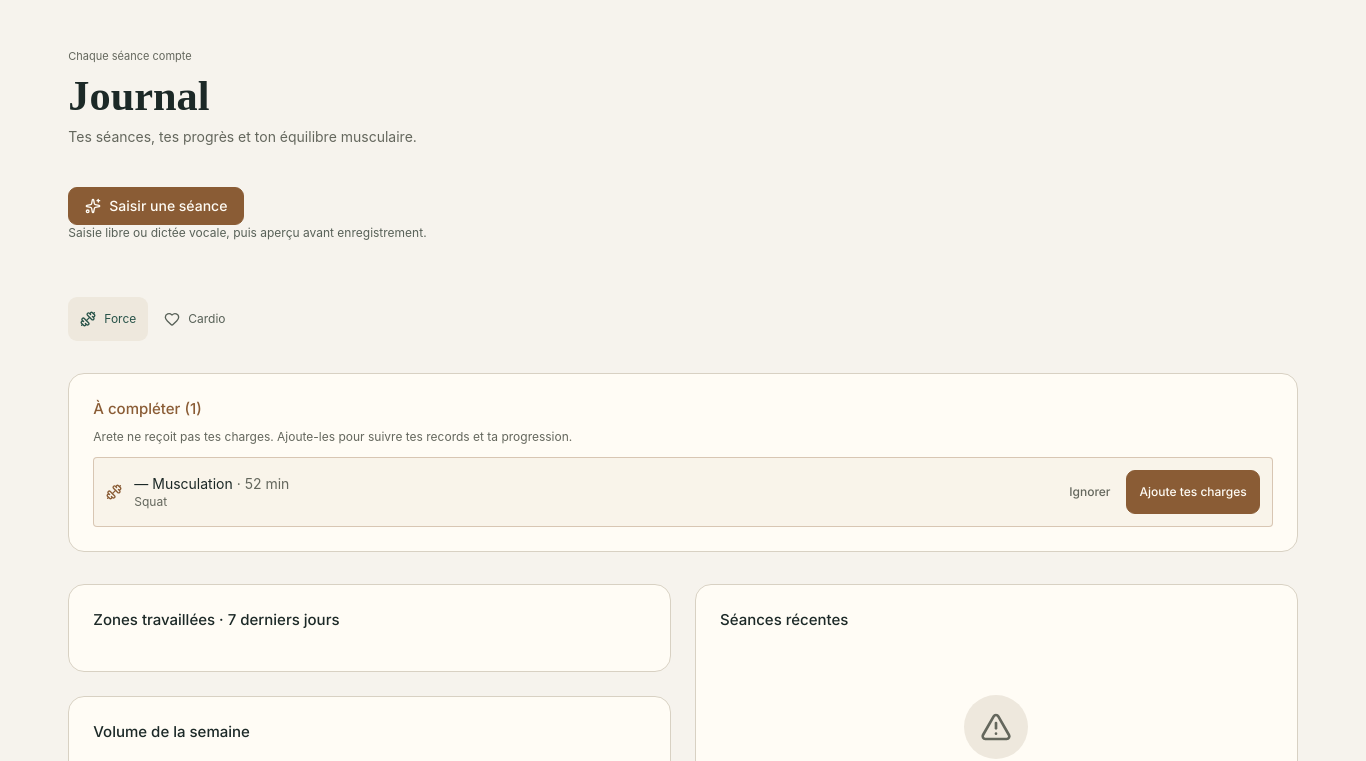
Test: closes a draft the Journal opened in place, adding no history entry
The width and height of the screenshot is (1366, 761).
Click the button "Ajoute tes charges" at (1193, 492), box [1126,470,1260,514]
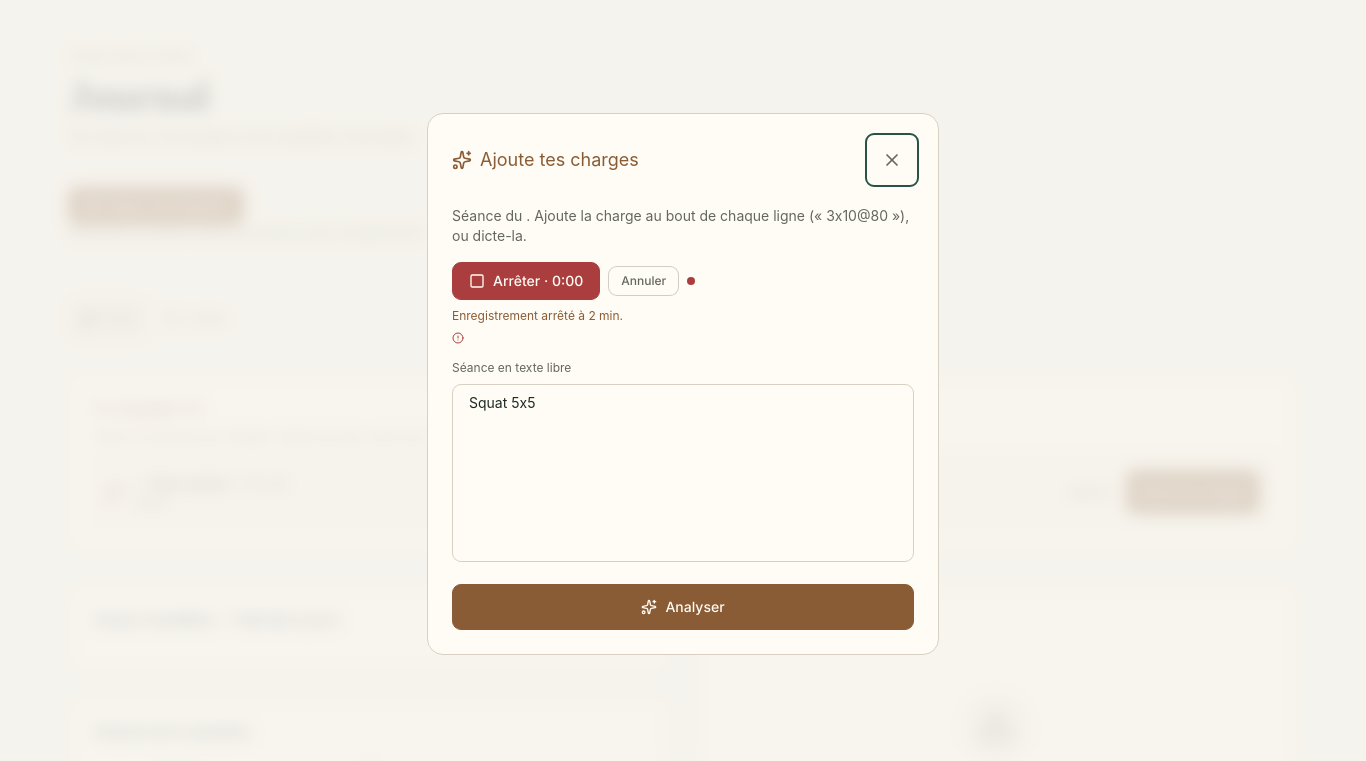
Click the button named "Fermer" at (892, 160), box [870,138,914,182]
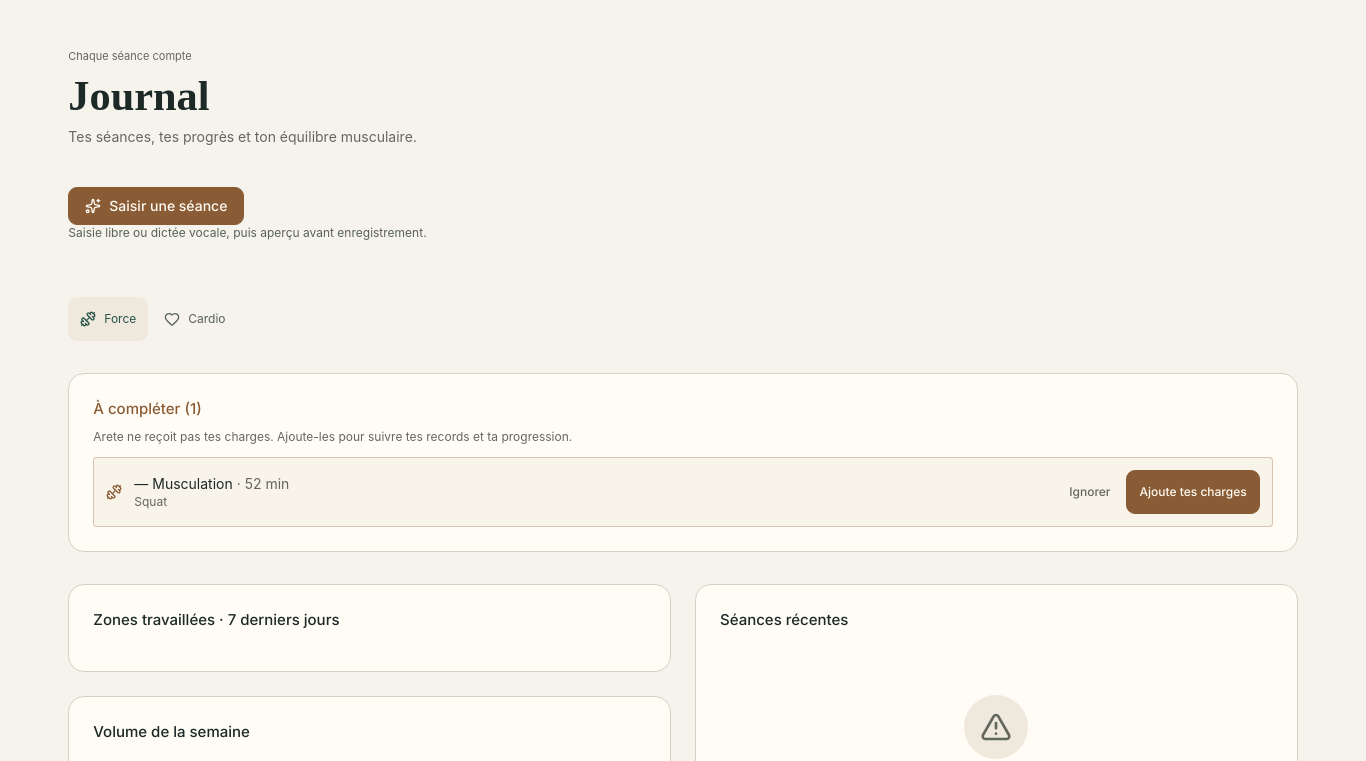
Expected: the dialog is gone
